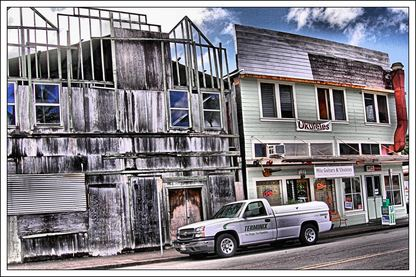truck: (169, 200, 339, 261)
